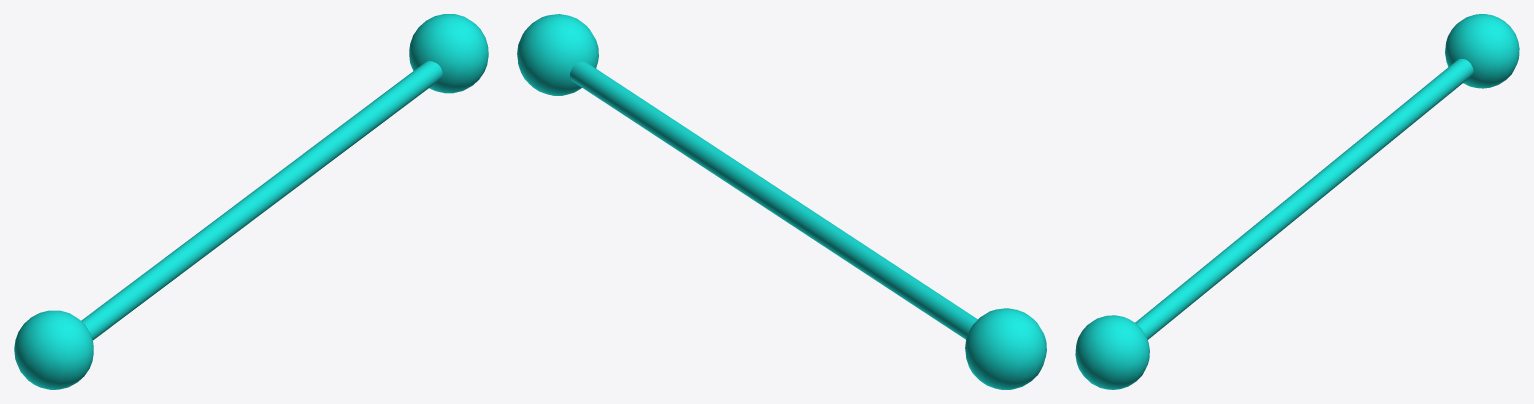
The model's file is line_blue_light.glb.
3 views of the same model, side by side, from view 1: azimuth 90°, elevation 25°; view 2: azimuth 150°, elevation 25°; view 3: azimuth 270°, elevation 25° (orthographic). The views are drawn at different scales.
Parts seen in each view (by area): view 1: NurbsPath.001, Sphere.002, Sphere.001; view 2: NurbsPath.001, Sphere.002, Sphere.001; view 3: NurbsPath.001, Sphere.001, Sphere.002.
Boxes of the visible parts, left/top/right/bottom form: NurbsPath.001: left=81, top=61, right=442, bottom=340; Sphere.002: left=14, top=310, right=93, bottom=389; Sphere.001: left=409, top=14, right=488, bottom=93; NurbsPath.001: left=570, top=61, right=977, bottom=339; Sphere.002: left=965, top=308, right=1046, bottom=389; Sphere.001: left=517, top=14, right=598, bottom=95; NurbsPath.001: left=1135, top=58, right=1473, bottom=339; Sphere.001: left=1075, top=315, right=1149, bottom=389; Sphere.002: left=1445, top=14, right=1519, bottom=88.
Bounding box in the file's own units: 1.72 × 0.1983 × 1.
